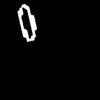chain: (18, 4, 36, 41)
